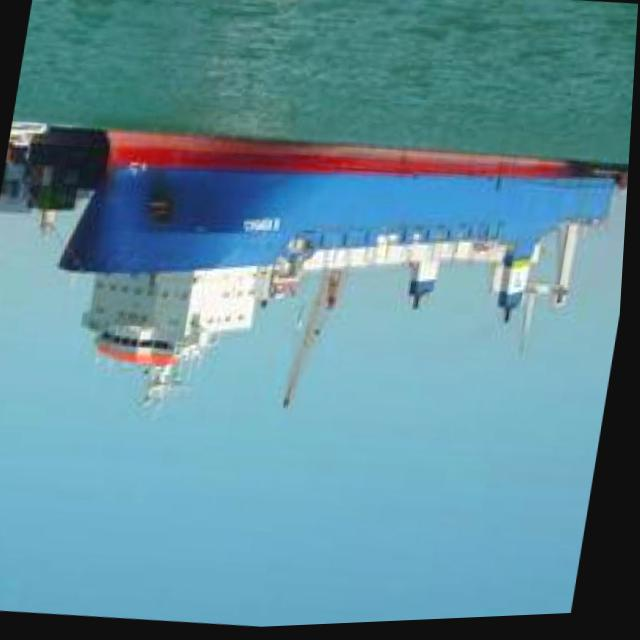ship2: (60, 128, 624, 422)
